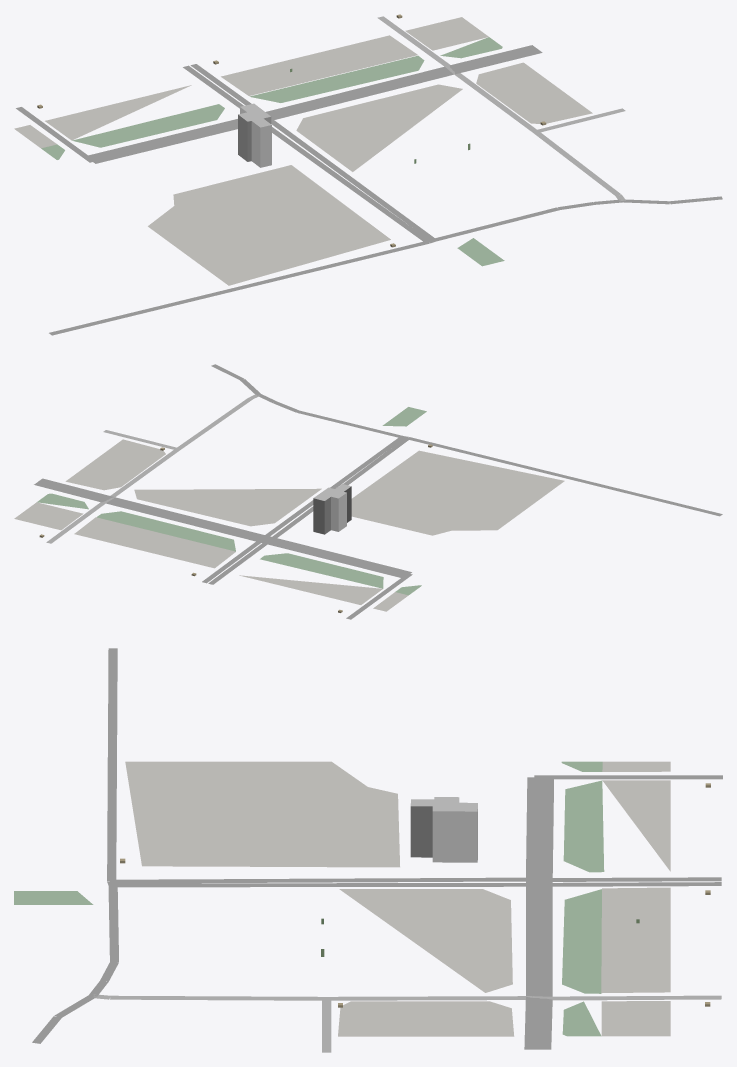
3 views of the same model, one above another, from view 1: azimuth 30°, elevation 25°; view 2: azimuth 150°, elevation 25°; view 3: azimuth 270°, elevation 25° (orthographic). The views are drawn at different scales.
Bounding box in the file's own units: 734 × 43.62 × 540.
